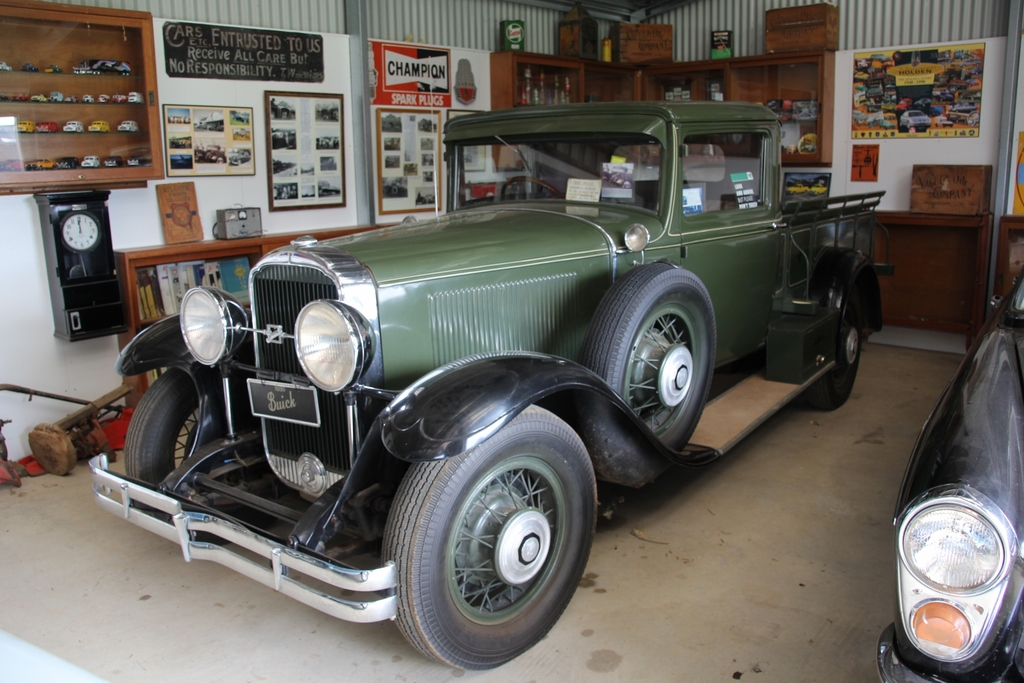Car: (85, 98, 894, 670), (877, 264, 1023, 682), (853, 49, 980, 128), (0, 154, 144, 170), (0, 90, 126, 104), (1, 121, 139, 133), (383, 180, 409, 196), (204, 144, 224, 163), (228, 149, 250, 165), (787, 184, 809, 196), (195, 122, 221, 132), (808, 183, 828, 194), (43, 64, 63, 73), (174, 158, 191, 168), (168, 113, 188, 121), (236, 126, 247, 139), (19, 64, 39, 71), (233, 114, 248, 123), (172, 139, 186, 148), (0, 60, 12, 70), (193, 150, 203, 160), (387, 156, 394, 165)
